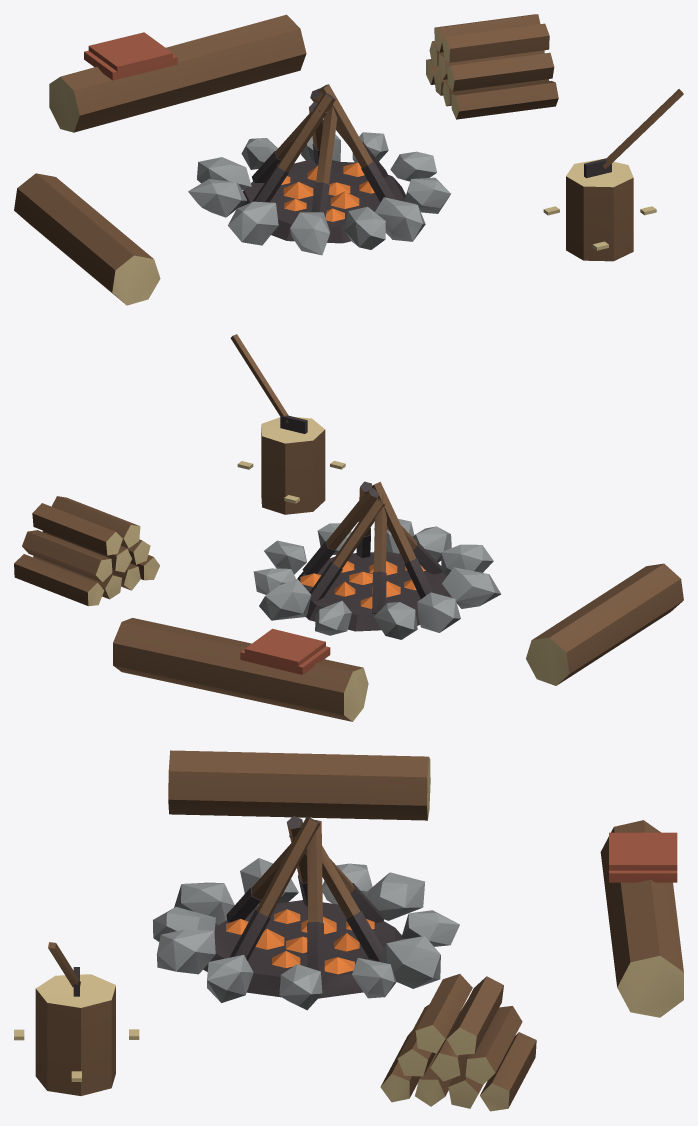
Rendered from campfire_0.glb.
3 renders of one model, top to bottom at view 1: azimuth 30°, elevation 25°; view 2: azimuth 150°, elevation 25°; view 3: azimuth 270°, elevation 25°, orthographic. The views are drawn at different scales.
Visible parts, largest first — view 1: campfire_0; view 2: campfire_0; view 3: campfire_0.
Part boxes in pixels (box(x1,y1,x2,y2)): campfire_0: box(14, 14, 683, 305); campfire_0: box(14, 334, 683, 721); campfire_0: box(14, 750, 683, 1111).
Bounding box in the file's own units: 3.68 × 0.9411 × 3.24.
